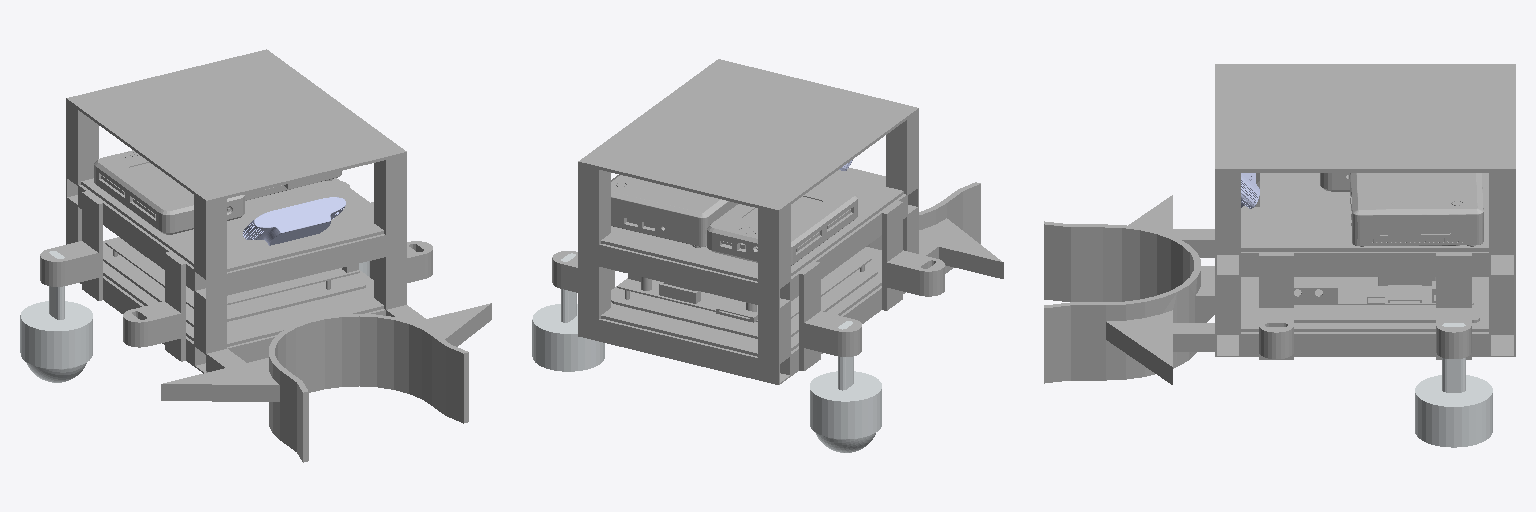
The robot description file, URDF, robot "lide":
<?xml version="1.0" encoding="utf-8"?>
<!-- This URDF was automatically created by SolidWorks to URDF Exporter! Originally created by [author] ([email redacted]) 
     Commit Version: 1.5.1-0-g916b5db  Build Version: 1.5.7152.31018
     For more information, please see http://wiki.ros.org/sw_urdf_exporter -->
<robot
  name="lide">
  <link
    name="base_link">
    <inertial>
      <origin
        xyz="0.106842188347999 0.0702342005764492 -0.118835588512777"
        rpy="0 0 0" />
      <mass
        value="2.99352352694058" />
      <inertia
        ixx="0.00577438473970017"
        ixy="-4.2090718619757E-07"
        ixz="-3.47527459937983E-07"
        iyy="0.0115509880946549"
        iyz="1.73790629095612E-05"
        izz="0.00655130915103693" />
    </inertial>
    <visual>
      <origin
        xyz="0 0 0"
        rpy="0 0 0" />
      <geometry>
        <mesh
          filename="package://lide/meshes/base_link.STL" />
      </geometry>
      <material
        name="">
        <color
          rgba="0.752941176470588 0.752941176470588 0.752941176470588 1" />
      </material>
    </visual>
    <collision>
      <origin
        xyz="0 0 0"
        rpy="0 0 0" />
      <geometry>
        <mesh
          filename="package://lide/meshes/base_link.STL" />
      </geometry>
    </collision>
  </link>
  <link
    name="LFS">
    <inertial>
      <origin
        xyz="0.0455604268709419 0.00830943309140331 0.00297622851896683"
        rpy="0 0 0" />
      <mass
        value="0.0727928435161986" />
      <inertia
        ixx="2.20927876796312E-05"
        ixy="-1.64845302056393E-08"
        ixz="-1.56454773175215E-07"
        iyy="1.62632133784213E-05"
        iyz="2.96411876511166E-09"
        izz="1.80843397531752E-05" />
    </inertial>
    <visual>
      <origin
        xyz="0 0 0"
        rpy="0 0 0" />
      <geometry>
        <mesh
          filename="package://lide/meshes/LFS.STL" />
      </geometry>
      <material
        name="">
        <color
          rgba="0.752941176470588 0.752941176470588 0.752941176470588 1" />
      </material>
    </visual>
    <collision>
      <origin
        xyz="0 0 0"
        rpy="0 0 0" />
      <geometry>
        <mesh
          filename="package://lide/meshes/LFS.STL" />
      </geometry>
    </collision>
  </link>
  <joint
    name="LFS"
    type="fixed">
    <origin
      xyz="0.20441 0.054044 -0.014503"
      rpy="1.5708 0 0" />
    <parent
      link="base_link" />
    <child
      link="LFS" />
    <axis
      xyz="0 0 0" />
  </joint>
  <link
    name="LFW">
    <inertial>
      <origin
        xyz="0.015 0 3.46944695195361E-18"
        rpy="0 0 0" />
      <mass
        value="0.767080911081153" />
      <inertia
        ixx="0.00116426102407189"
        ixy="4.45758864315272E-22"
        ixz="-1.82994146746971E-20"
        iyy="0.000639661580367031"
        iyz="-1.35525271560688E-20"
        izz="0.000639661580367032" />
    </inertial>
    <visual>
      <origin
        xyz="0 0 0"
        rpy="0 0 0" />
      <geometry>
        <mesh
          filename="package://lide/meshes/LFW.STL" />
      </geometry>
      <material
        name="">
        <color
          rgba="0.898039215686275 0.917647058823529 0.929411764705882 1" />
      </material>
    </visual>
    <collision>
      <origin
        xyz="0 0 0"
        rpy="0 0 0" />
      <geometry>
        <mesh
          filename="package://lide/meshes/LFW.STL" />
      </geometry>
    </collision>
  </link>
  <joint
    name="LFW"
    type="continuous">
    <origin
      xyz="0.063346 -0.006798 0.015044"
      rpy="-1.6264 0 0" />
    <parent
      link="LFS" />
    <child
      link="LFW" />
    <axis
      xyz="1 0 0" />
    <limit
      effort="3.1"
      velocity="7" />
  </joint>
  <link
    name="RFS">
    <inertial>
      <origin
        xyz="-0.0191828308457407 -0.00900932874707057 0.0520056318885905"
        rpy="0 0 0" />
      <mass
        value="0.0727928435161986" />
      <inertia
        ixx="2.20927876796313E-05"
        ixy="-1.64845302056316E-08"
        ixz="1.56454773175213E-07"
        iyy="1.62632133784213E-05"
        iyz="-2.9641187651042E-09"
        izz="1.80843397531752E-05" />
    </inertial>
    <visual>
      <origin
        xyz="0 0 0"
        rpy="0 0 0" />
      <geometry>
        <mesh
          filename="package://lide/meshes/RFS.STL" />
      </geometry>
      <material
        name="">
        <color
          rgba="0.752941176470588 0.752941176470588 0.752941176470588 1" />
      </material>
    </visual>
    <collision>
      <origin
        xyz="0 0 0"
        rpy="0 0 0" />
      <geometry>
        <mesh
          filename="package://lide/meshes/RFS.STL" />
      </geometry>
    </collision>
  </link>
  <joint
    name="RFS"
    type="fixed">
    <origin
      xyz="-0.020784 0.10307 0.0027844"
      rpy="1.5708 0 0" />
    <parent
      link="base_link" />
    <child
      link="RFS" />
    <axis
      xyz="0 0 0" />
  </joint>
  <link
    name="RFW">
    <inertial>
      <origin
        xyz="-0.015 0 0"
        rpy="0 0 0" />
      <mass
        value="0.767080911081152" />
      <inertia
        ixx="0.00116426102407189"
        ixy="-1.2315168370675E-36"
        ixz="4.60638074444741E-39"
        iyy="0.000639661580367031"
        iyz="8.00462841683581E-39"
        izz="0.000639661580367031" />
    </inertial>
    <visual>
      <origin
        xyz="0 0 0"
        rpy="0 0 0" />
      <geometry>
        <mesh
          filename="package://lide/meshes/RFW.STL" />
      </geometry>
      <material
        name="">
        <color
          rgba="0.898039215686275 0.917647058823529 0.929411764705882 1" />
      </material>
    </visual>
    <collision>
      <origin
        xyz="0 0 0"
        rpy="0 0 0" />
      <geometry>
        <mesh
          filename="package://lide/meshes/RFW.STL" />
      </geometry>
    </collision>
  </link>
  <joint
    name="RFW"
    type="continuous">
    <origin
      xyz="-0.036969 -0.024084 0.064073"
      rpy="0 0 0" />
    <parent
      link="RFS" />
    <child
      link="RFW" />
    <axis
      xyz="1 0 0" />
    <limit
      effort="3.1"
      velocity="7" />
  </joint>
  <link
    name="LBS">
    <inertial>
      <origin
        xyz="-3.54143714353938E-10 -0.0259601646992602 -8.55974152669248E-10"
        rpy="0 0 0" />
      <mass
        value="0.109625704314989" />
      <inertia
        ixx="9.47070510683515E-05"
        ixy="-7.13314123313254E-13"
        ixz="1.36318503328924E-13"
        iyy="7.1990527735735E-05"
        iyz="-4.59244589910893E-12"
        izz="9.47424928023496E-05" />
    </inertial>
    <visual>
      <origin
        xyz="0 0 0"
        rpy="0 0 0" />
      <geometry>
        <mesh
          filename="package://lide/meshes/LBS.STL" />
      </geometry>
      <material
        name="">
        <color
          rgba="0.898039215686275 0.917647058823529 0.929411764705882 1" />
      </material>
    </visual>
    <collision>
      <origin
        xyz="0 0 0"
        rpy="0 0 0" />
      <geometry>
        <mesh
          filename="package://lide/meshes/LBS.STL" />
      </geometry>
    </collision>
  </link>
  <joint
    name="LBS"
    type="fixed">
    <origin
      xyz="0.25 0.202 0.0087742"
      rpy="1.5708 0 0" />
    <parent
      link="base_link" />
    <child
      link="LBS" />
    <axis
      xyz="0 0 0" />
  </joint>
  <link
    name="LBW">
    <inertial>
      <origin
        xyz="-6.93889390390723E-18 6.67409058084933E-05 -2.77555756156289E-17"
        rpy="0 0 0" />
      <mass
        value="0.303329317514427" />
      <inertia
        ixx="0.0001093198860322"
        ixy="1.17108889725839E-37"
        ixz="0"
        iyy="0.000109926544667228"
        iyz="-3.95643608811853E-38"
        izz="0.0001093198860322" />
    </inertial>
    <visual>
      <origin
        xyz="0 0 0"
        rpy="0 0 0" />
      <geometry>
        <mesh
          filename="package://lide/meshes/LBW.STL" />
      </geometry>
      <material
        name="">
        <color
          rgba="0.898039215686275 0.917647058823529 0.929411764705882 1" />
      </material>
    </visual>
    <collision>
      <origin
        xyz="0 0 0"
        rpy="0 0 0" />
      <geometry>
        <mesh
          filename="package://lide/meshes/LBW.STL" />
      </geometry>
    </collision>
  </link>
  <joint
    name="LBW"
    type="continuous">
    <origin
      xyz="0 -0.055074 0"
      rpy="0 -0.31141 -1.5708" />
    <parent
      link="LBS" />
    <child
      link="LBW" />
    <axis
      xyz="0 1 0" />
  </joint>
  <link
    name="RBS">
    <inertial>
      <origin
        xyz="-3.54143693537257E-10 -0.0259601646992602 -8.55974180424823E-10"
        rpy="0 0 0" />
      <mass
        value="0.10962570431499" />
      <inertia
        ixx="9.47070510683514E-05"
        ixy="-7.13314126238957E-13"
        ixz="1.36318506911893E-13"
        iyy="7.19905277357352E-05"
        iyz="-4.59244590061975E-12"
        izz="9.47424928023498E-05" />
    </inertial>
    <visual>
      <origin
        xyz="0 0 0"
        rpy="0 0 0" />
      <geometry>
        <mesh
          filename="package://lide/meshes/RBS.STL" />
      </geometry>
      <material
        name="">
        <color
          rgba="0.898039215686275 0.917647058823529 0.929411764705882 1" />
      </material>
    </visual>
    <collision>
      <origin
        xyz="0 0 0"
        rpy="0 0 0" />
      <geometry>
        <mesh
          filename="package://lide/meshes/RBS.STL" />
      </geometry>
    </collision>
  </link>
  <joint
    name="RBS"
    type="fixed">
    <origin
      xyz="-0.040003 0.202 0.0087742"
      rpy="1.5708 0 0" />
    <parent
      link="base_link" />
    <child
      link="RBS" />
    <axis
      xyz="0 0 0" />
  </joint>
  <link
    name="RBW">
    <inertial>
      <origin
        xyz="6.93889390390723E-18 -6.93889390390723E-18 -2.77555756156289E-17"
        rpy="0 0 0" />
      <mass
        value="0.303329317514427" />
      <inertia
        ixx="0.0001093198860322"
        ixy="3.09723775777832E-39"
        ixz="7.04182919818751E-41"
        iyy="0.000109926544667228"
        iyz="1.94881499106946E-40"
        izz="0.0001093198860322" />
    </inertial>
    <visual>
      <origin
        xyz="0 0 0"
        rpy="0 0 0" />
      <geometry>
        <mesh
          filename="package://lide/meshes/RBW.STL" />
      </geometry>
      <material
        name="">
        <color
          rgba="0.898039215686275 0.917647058823529 0.929411764705882 1" />
      </material>
    </visual>
    <collision>
      <origin
        xyz="0 0 0"
        rpy="0 0 0" />
      <geometry>
        <mesh
          filename="package://lide/meshes/RBW.STL" />
      </geometry>
    </collision>
  </link>
  <joint
    name="RBW"
    type="continuous">
    <origin
      xyz="0 -0.055074 0"
      rpy="0 0 -1.5708" />
    <parent
      link="RBS" />
    <child
      link="RBW" />
    <axis
      xyz="0 1 0" />
  </joint>
  <link
    name="fcam">
    <inertial>
      <origin
        xyz="-0.0115544746517359 -2.64429642850283E-06 0.00129029302682174"
        rpy="0 0 0" />
      <mass
        value="0.0436119957238952" />
      <inertia
        ixx="2.35707061906175E-05"
        ixy="-1.01842273865709E-09"
        ixz="2.17585832536658E-08"
        iyy="4.29479050056035E-06"
        iyz="-8.85018118759433E-10"
        izz="2.21058153511886E-05" />
    </inertial>
    <visual>
      <origin
        xyz="0 0 0"
        rpy="0 0 0" />
      <geometry>
        <mesh
          filename="package://lide/meshes/fcam.STL" />
      </geometry>
      <material
        name="">
        <color
          rgba="0.792156862745098 0.819607843137255 0.933333333333333 1" />
      </material>
    </visual>
    <collision>
      <origin
        xyz="0 0 0"
        rpy="0 0 0" />
      <geometry>
        <mesh
          filename="package://lide/meshes/fcam.STL" />
      </geometry>
    </collision>
  </link>
  <joint
    name="fcam"
    type="fixed">
    <origin
      xyz="0.105 0.0038823 0.15182"
      rpy="0 0.2618 -1.5708" />
    <parent
      link="base_link" />
    <child
      link="fcam" />
    <axis
      xyz="0 0 0" />
  </joint>
  <link
    name="bcam">
    <inertial>
      <origin
        xyz="-0.0115544746566874 -2.6435490328991E-06 0.00129029481658663"
        rpy="0 0 0" />
      <mass
        value="0.0436119949785286" />
      <inertia
        ixx="2.35707056099601E-05"
        ixy="-1.01834758005613E-09"
        ixz="2.17579332532715E-08"
        iyy="4.29479078276665E-06"
        iyz="-8.85484503961911E-10"
        izz="2.21058144654638E-05" />
    </inertial>
    <visual>
      <origin
        xyz="0 0 0"
        rpy="0 0 0" />
      <geometry>
        <mesh
          filename="package://lide/meshes/bcam.STL" />
      </geometry>
      <material
        name="">
        <color
          rgba="0.792156862745098 0.819607843137255 0.933333333333333 1" />
      </material>
    </visual>
    <collision>
      <origin
        xyz="0 0 0"
        rpy="0 0 0" />
      <geometry>
        <mesh
          filename="package://lide/meshes/bcam.STL" />
      </geometry>
    </collision>
  </link>
  <joint
    name="bcam"
    type="fixed">
    <origin
      xyz="0.105 0.01209 0.11323"
      rpy="0 0.7854 -1.5708" />
    <parent
      link="base_link" />
    <child
      link="bcam" />
    <axis
      xyz="0 0 0" />
  </joint>
  <link
    name="Lidar">
    <inertial>
      <origin
        xyz="0.0135233595897215 0.000461955980230355 -0.0287648854952088"
        rpy="0 0 0" />
      <mass
        value="0.0730845717509052" />
      <inertia
        ixx="1.95808757381404E-05"
        ixy="-1.03933586285386E-07"
        ixz="-4.28391168535083E-07"
        iyy="2.41250079664705E-05"
        iyz="9.42710322119347E-09"
        izz="4.14184516335429E-05" />
    </inertial>
    <visual>
      <origin
        xyz="0 0 0"
        rpy="0 0 0" />
      <geometry>
        <mesh
          filename="package://lide/meshes/Lidar.STL" />
      </geometry>
      <material
        name="">
        <color
          rgba="0.792156862745098 0.819607843137255 0.933333333333333 1" />
      </material>
    </visual>
    <collision>
      <origin
        xyz="0 0 0"
        rpy="0 0 0" />
      <geometry>
        <mesh
          filename="package://lide/meshes/Lidar.STL" />
      </geometry>
    </collision>
  </link>
  <joint
    name="Lidar"
    type="fixed">
    <origin
      xyz="0.10401 0.19458 0.2285"
      rpy="0 0 -1.5708" />
    <parent
      link="base_link" />
    <child
      link="Lidar" />
    <axis
      xyz="0 0 0" />
  </joint>
  <link
    name="imu_link">
    <inertial>
      <origin
        xyz="0.00385022026093959 6.239840080563E-05 -0.00103377575234337"
        rpy="0 0 0" />
      <mass
        value="0.00189180567975737" />
      <inertia
        ixx="7.79431263454135E-08"
        ixy="1.39214190556515E-10"
        ixz="1.54511633252899E-11"
        iyy="4.85473464623125E-08"
        iyz="-6.30099051334897E-11"
        izz="1.25233585370532E-07" />
    </inertial>
    <visual>
      <origin
        xyz="0 0 0"
        rpy="0 0 0" />
      <geometry>
        <mesh
          filename="package://lide/meshes/imu_link.STL" />
      </geometry>
      <material
        name="">
        <color
          rgba="0.898039215686275 0.917647058823529 0.929411764705882 1" />
      </material>
    </visual>
    <collision>
      <origin
        xyz="0 0 0"
        rpy="0 0 0" />
      <geometry>
        <mesh
          filename="package://lide/meshes/imu_link.STL" />
      </geometry>
    </collision>
  </link>
  <joint
    name="imu_link"
    type="fixed">
    <origin
      xyz="0.105 0.039 0.177"
      rpy="0 0 -1.5708" />
    <parent
      link="base_link" />
    <child
      link="imu_link" />
    <axis
      xyz="0 0 0" />
  </joint>
</robot>

--- What the picture shows (computed from the rendered views, not written in the file) ---
3 views of the same robot in one strip: view 1: azimuth 30°, elevation 25°; view 2: azimuth 150°, elevation 25°; view 3: azimuth 270°, elevation 25° (orthographic).
Model lide with 13 links and 12 joints (4 continuous, 8 fixed), rooted at base_link, posed all joints at 0.
Links seen in each view (by area): view 1: base_link, RBS, bcam, RBW; view 2: base_link, RBS, LBS, RBW; view 3: base_link, LBS, bcam.
Boxes of the visible links, x1=… form: base_link: x1=40, y1=49, x2=491, y2=462; RBS: x1=20, y1=251, x2=92, y2=368; bcam: x1=243, y1=197, x2=345, y2=245; RBW: x1=26, y1=362, x2=86, y2=382; base_link: x1=552, y1=59, x2=1003, y2=384; RBS: x1=810, y1=321, x2=881, y2=438; LBS: x1=532, y1=253, x2=604, y2=371; RBW: x1=815, y1=432, x2=875, y2=452; base_link: x1=1044, y1=64, x2=1515, y2=384; LBS: x1=1415, y1=323, x2=1492, y2=447; bcam: x1=1241, y1=173, x2=1259, y2=208.
Bounding box of the posed robot: 0.356 × 0.398 × 0.2512 m (x, y, z).
5 mesh visuals loaded from 13 distinct referenced files (5 binary STL); not drawn: 8 (reference not matched to a file when rendering).